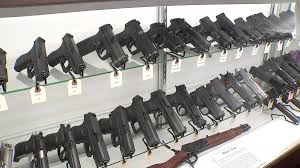gun: (79, 22, 128, 76), (70, 111, 114, 168), (113, 17, 159, 69), (142, 89, 190, 137), (164, 82, 210, 132), (11, 35, 54, 88), (100, 104, 140, 160), (124, 96, 163, 148), (172, 12, 211, 58), (51, 30, 85, 82), (47, 123, 84, 168), (149, 15, 183, 62), (193, 15, 232, 52), (18, 135, 49, 167)
